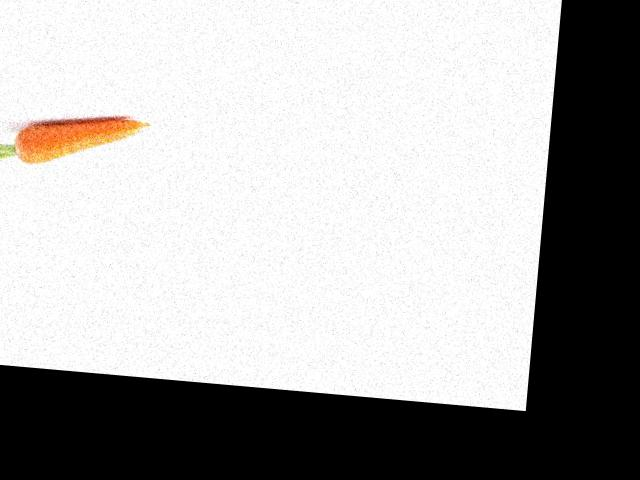carrot: (10, 102, 153, 175)
